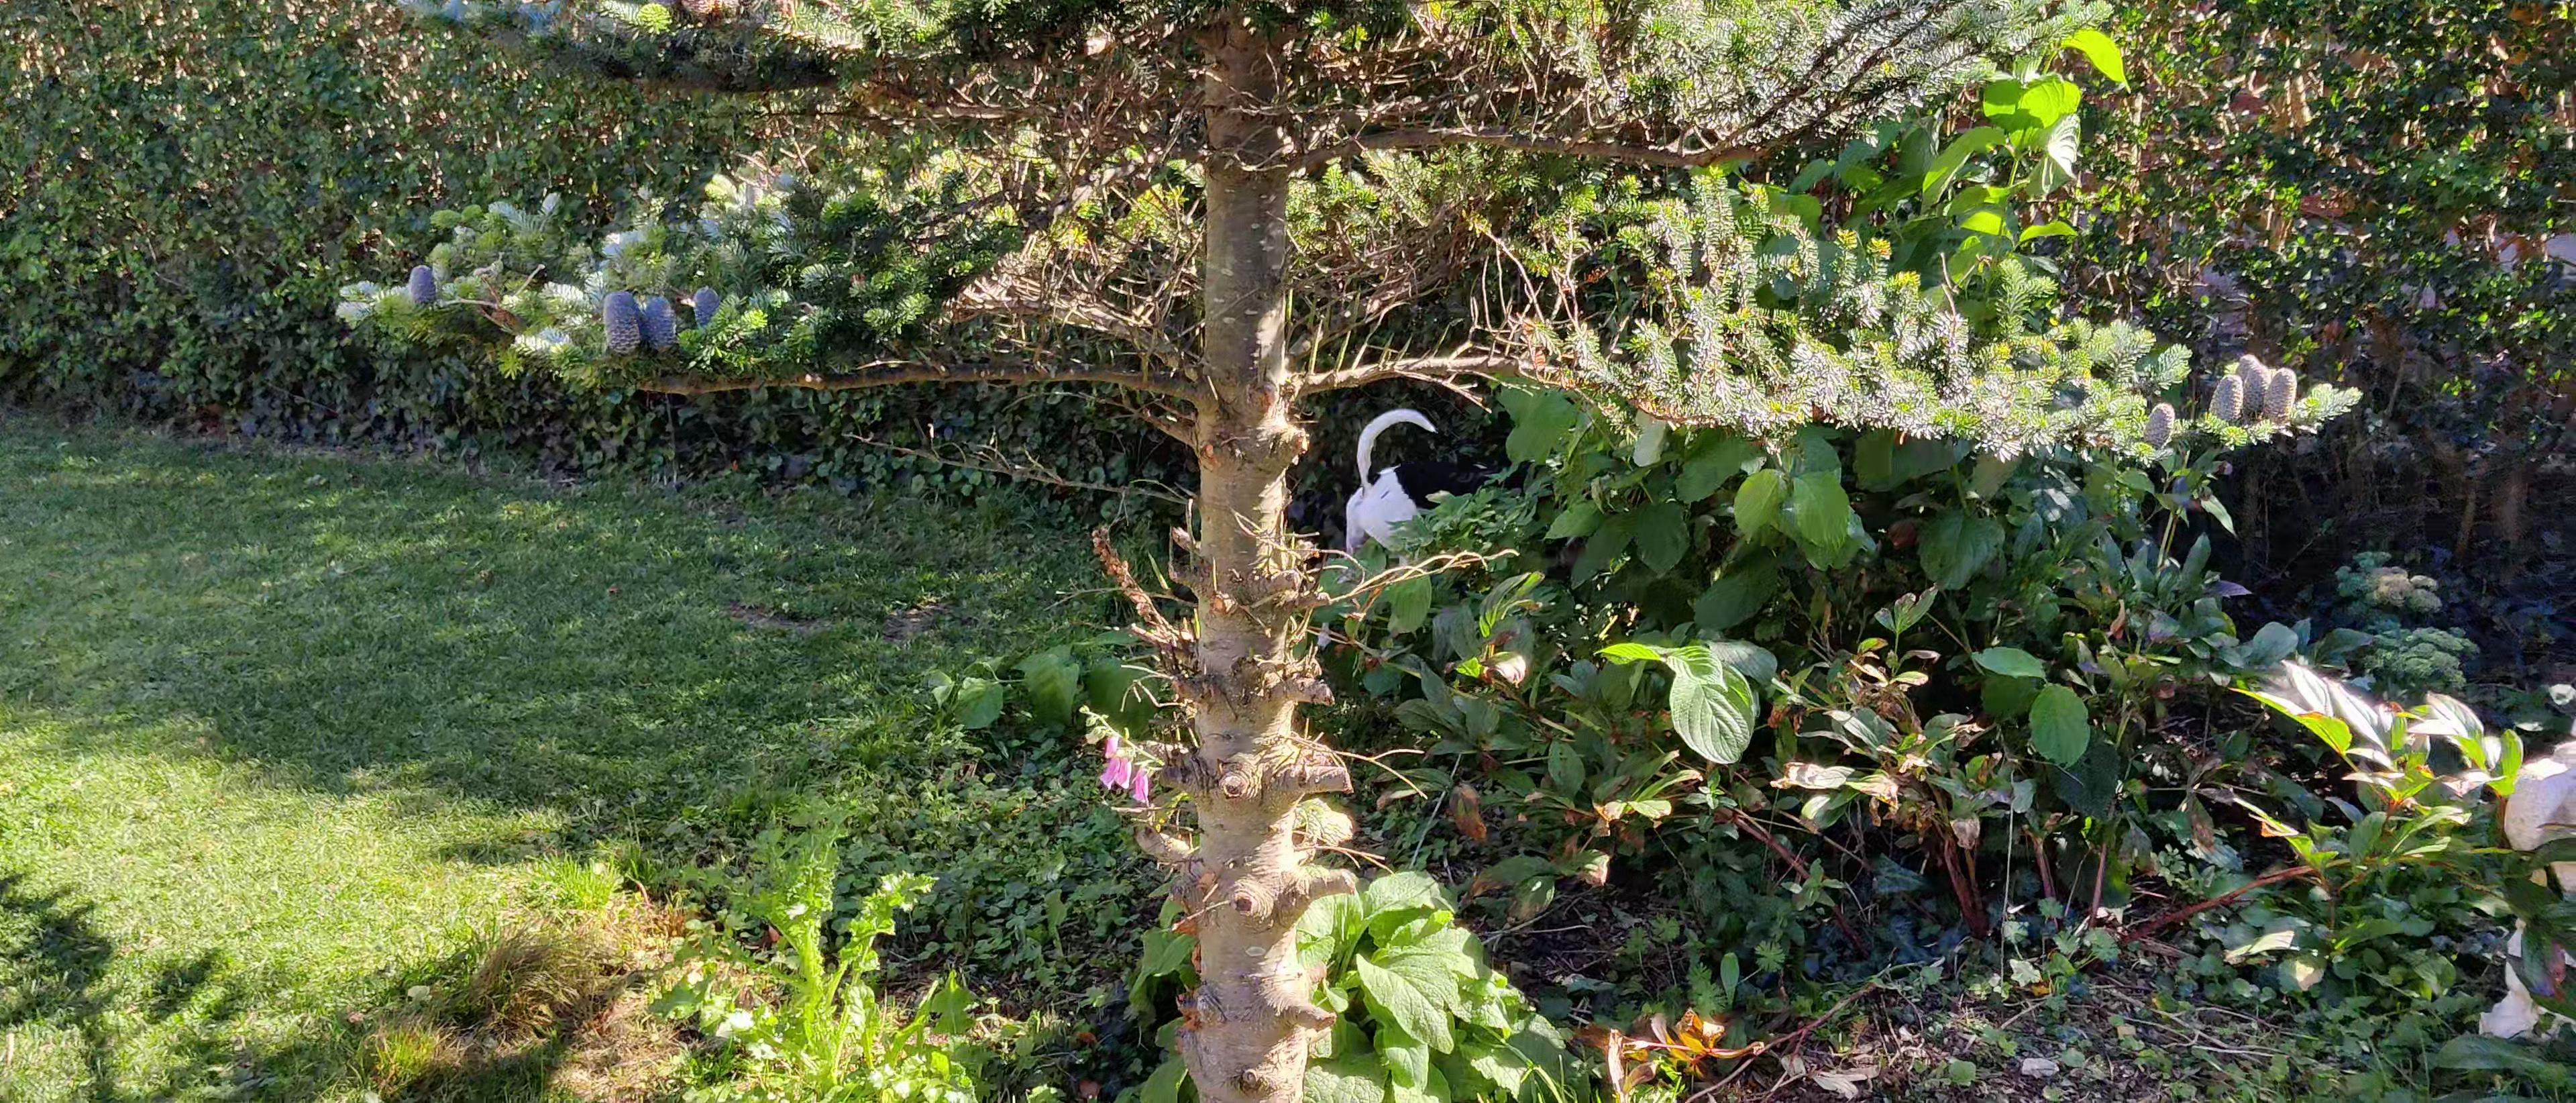Dog: (1337, 406, 1506, 561)
